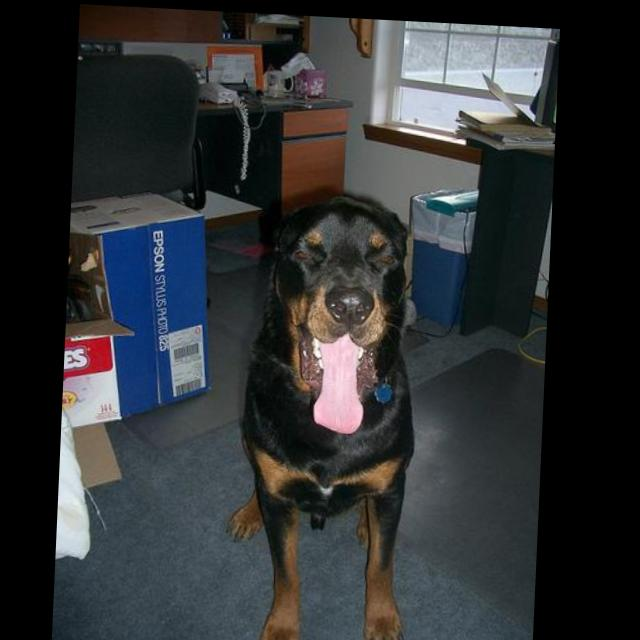rottweiler: (228, 185, 429, 640)
